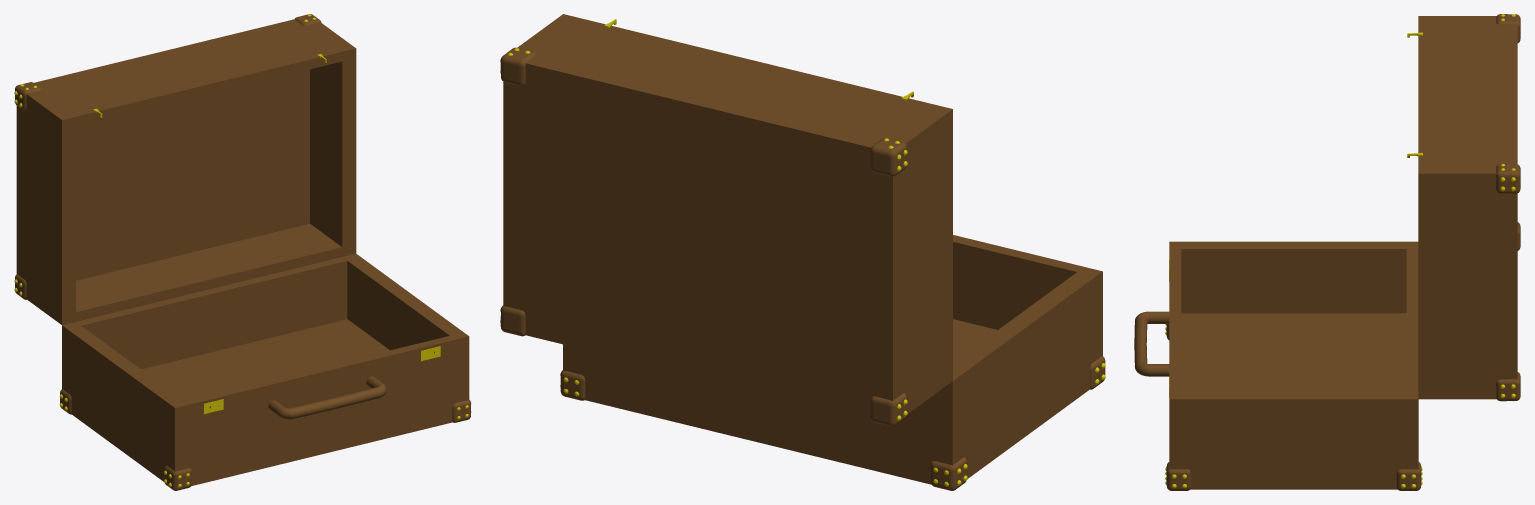
File: suitcase.glb
3 renders of one model, left to right at view 1: azimuth 30°, elevation 25°; view 2: azimuth 150°, elevation 25°; view 3: azimuth 270°, elevation 25°, orthographic. The views are drawn at different scales.
Parts seen in each view (by area): view 1: Suitcase.001, Suitcase, Cylinder, Cube.001, Cube.003; view 2: Suitcase.001, Suitcase, Cube.003, Cube.001; view 3: Suitcase, Suitcase.001, Cube.003, Cylinder, Cube.001.
Part boxes in pixels (x1,y1,x2,y2): Suitcase.001: (16,19,356,325); Suitcase: (62,253,469,485); Cylinder: (268,376,386,419); Cube.001: (59,389,471,490); Cube.003: (14,14,321,299); Suitcase.001: (503,14,952,419); Suitcase: (563,235,1102,484); Cube.003: (500,47,907,426); Cube.001: (560,356,1105,490); Suitcase: (1169,241,1418,489); Suitcase.001: (1418,16,1517,399); Cube.003: (1496,14,1520,401); Cylinder: (1134,311,1169,376); Cube.001: (1165,324,1422,490).
Size of the model in its own units: 1.54 by 1.42 by 1.55.
